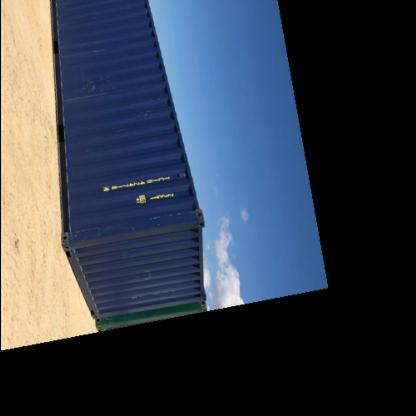Damage: (74, 212, 198, 236)
